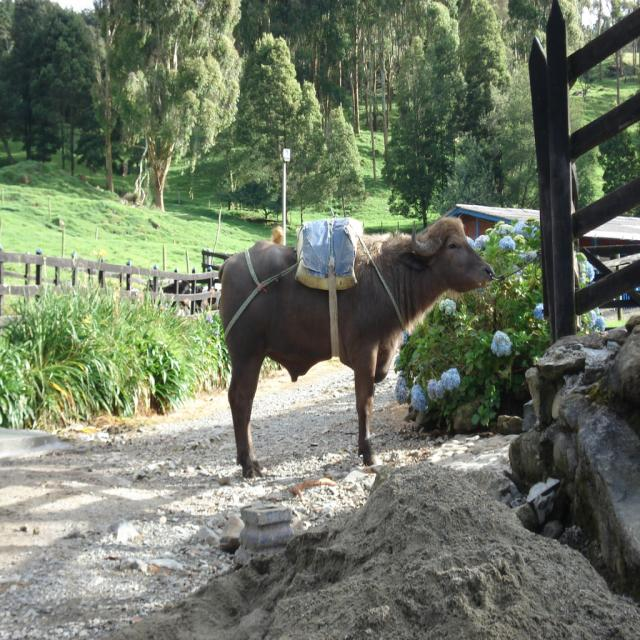Cattle: (218, 212, 495, 478)
